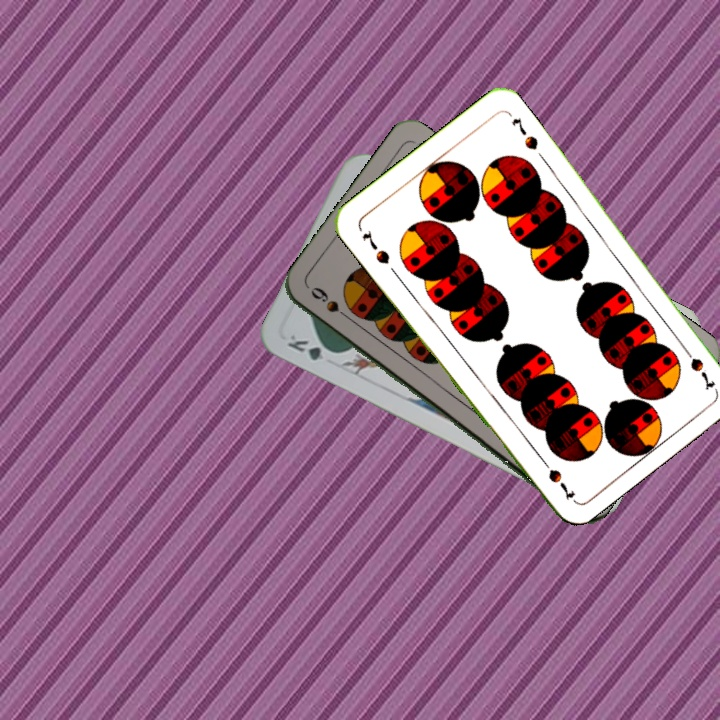GK: (283, 330, 340, 363)
S7: (677, 340, 718, 392), (358, 226, 393, 267)
S9: (306, 284, 356, 325)
